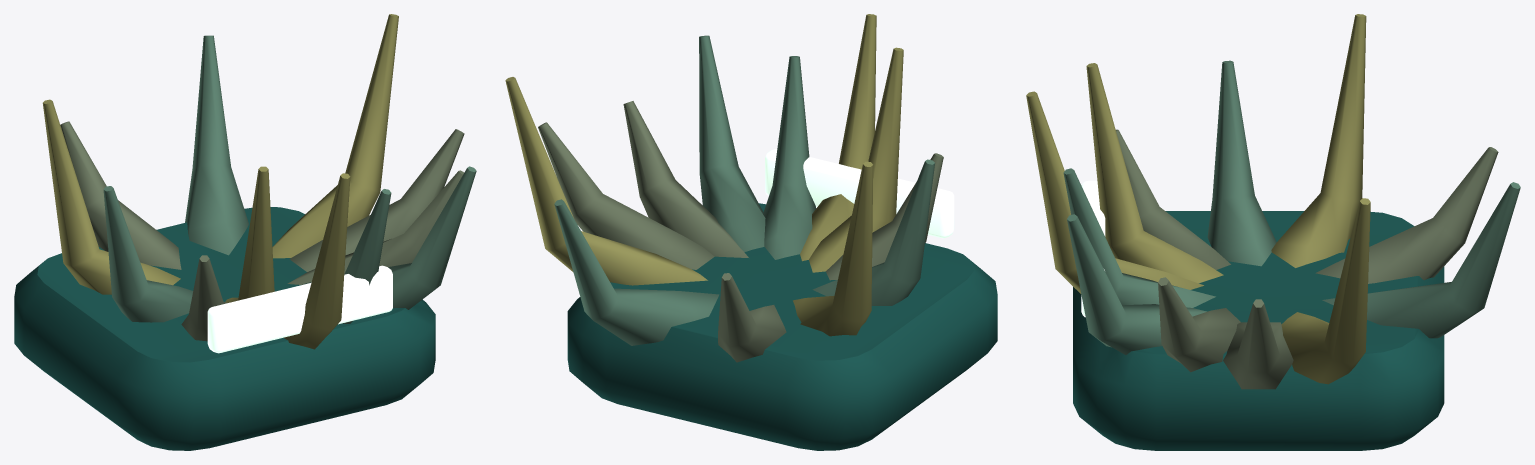
The model's file is event_green.glb.
3 renders of one model, left to right at view 1: azimuth 30°, elevation 25°; view 2: azimuth 150°, elevation 25°; view 3: azimuth 270°, elevation 25°, orthographic. The views are drawn at different scales.
Visible parts, largest first — view 1: EventGreen; view 2: EventGreen; view 3: EventGreen.
Boxes of the visible parts, box(x1,y1,x2,y2) form: EventGreen: box(14, 14, 476, 450); EventGreen: box(505, 14, 997, 450); EventGreen: box(1026, 14, 1520, 450).
Size of the model in its own units: 1.07 by 0.7413 by 1.07.
